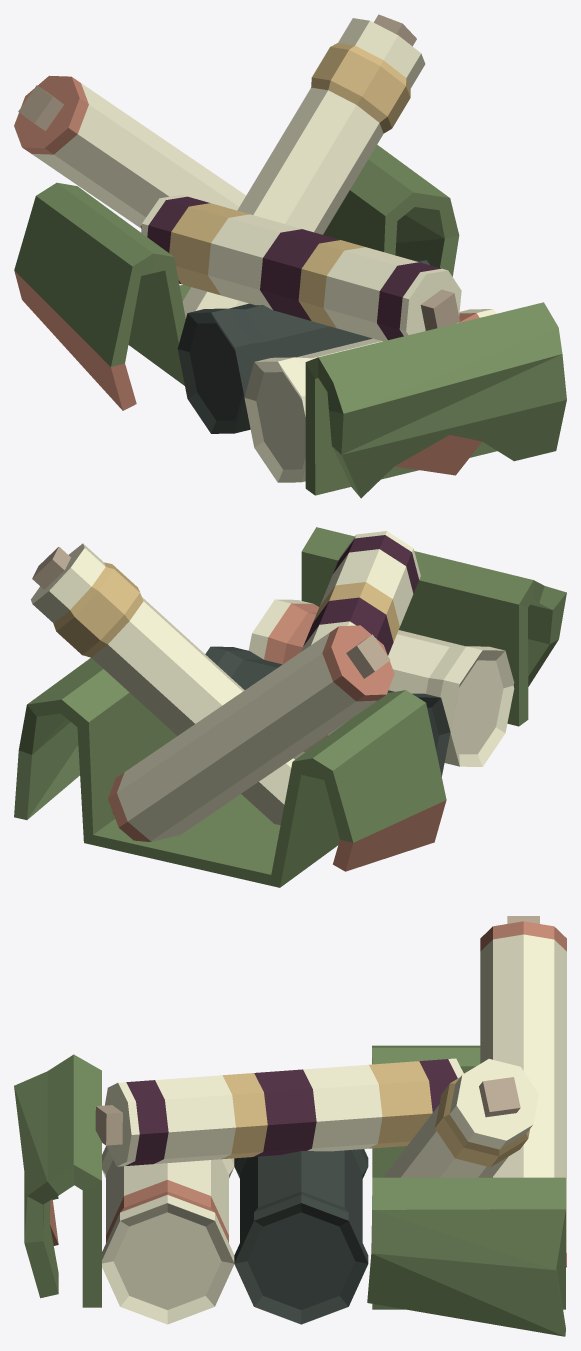
The model's file is Clothv2_ShallowCrate.fbx.
3 renders of one model, top to bottom at view 1: azimuth 30°, elevation 25°; view 2: azimuth 150°, elevation 25°; view 3: azimuth 270°, elevation 25°, orthographic. The views are drawn at different scales.
Visible parts, largest first — view 1: Cloth2; view 2: Cloth2; view 3: Cloth2.
Boxes of the visible parts, x1=… form: Cloth2: x1=14, y1=14, x2=566, y2=498; Cloth2: x1=14, y1=527, x2=566, y2=887; Cloth2: x1=14, y1=916, x2=566, y2=1336.
Size of the model in its own units: 152 by 108 by 191.
